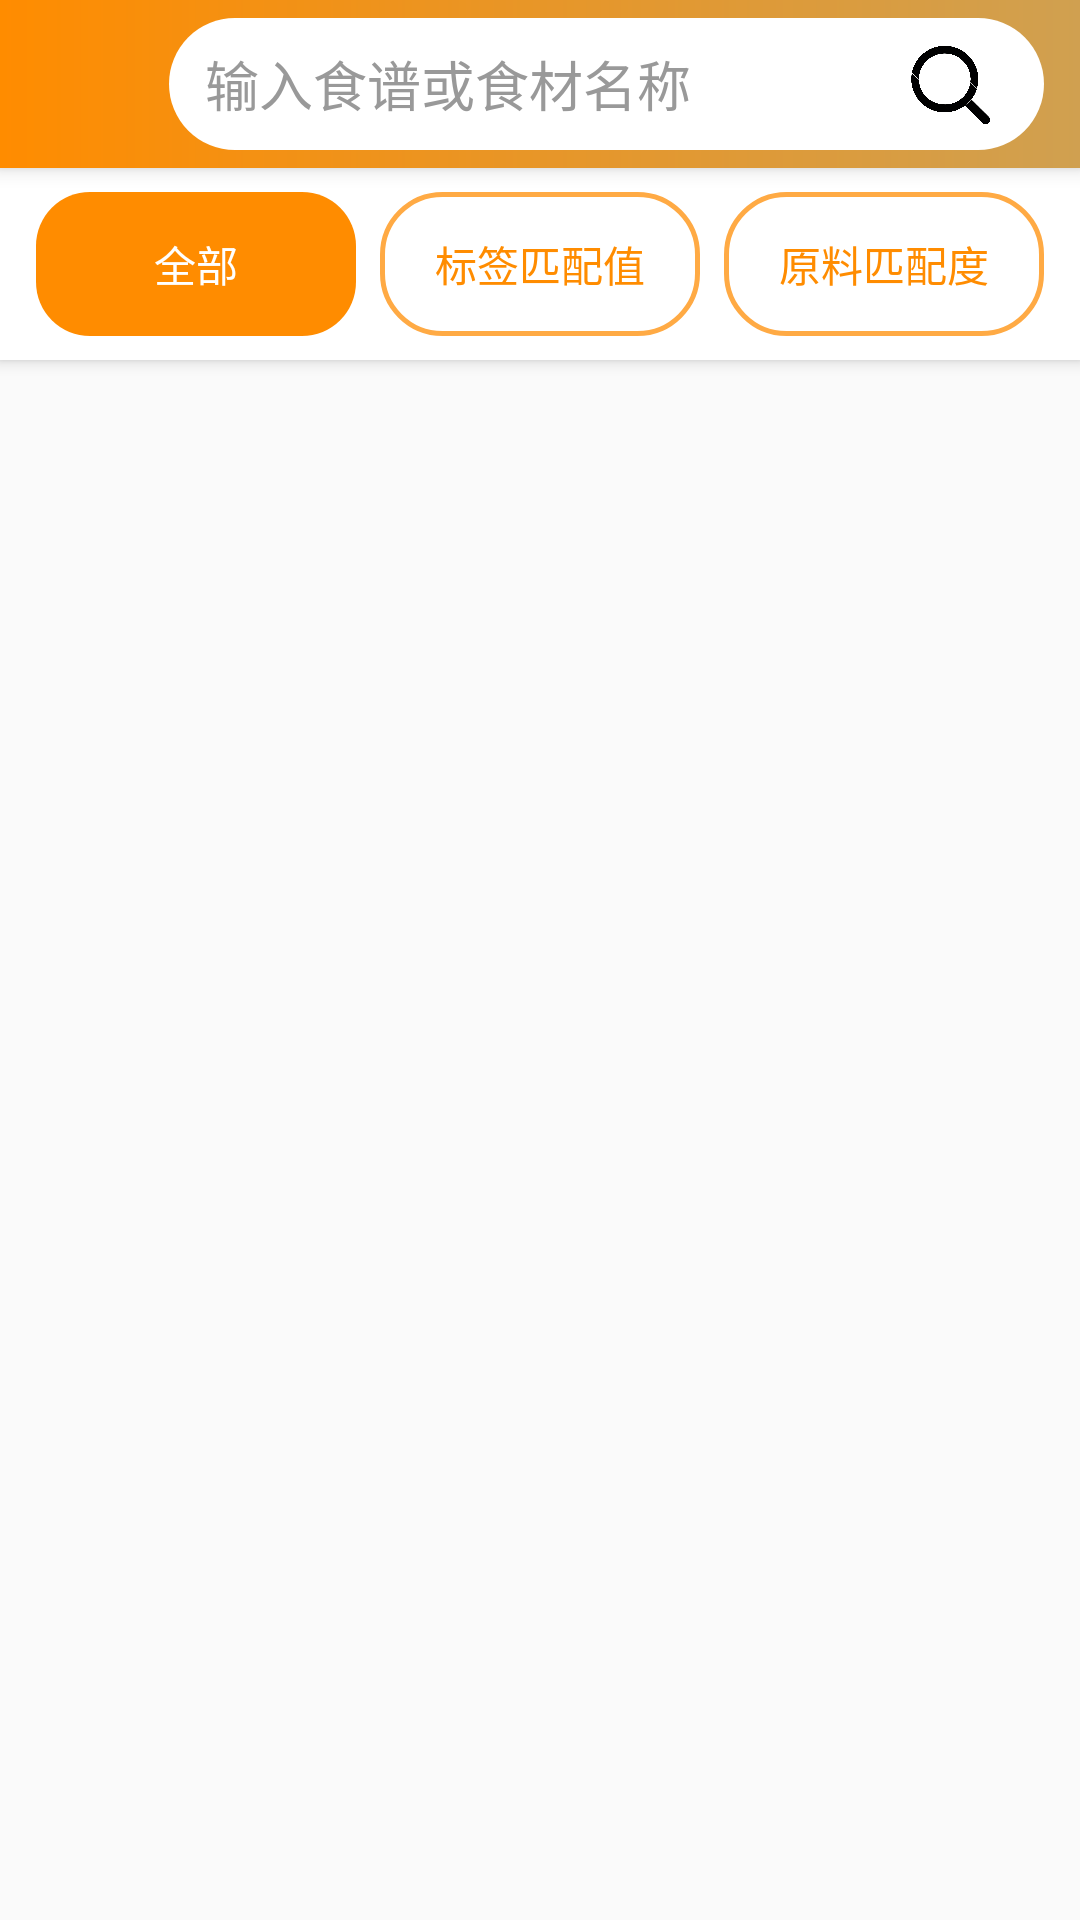

Icons on this 1080*1920 Android screen, each with the point to tap as [x,y]:
搜索: [949,84]
